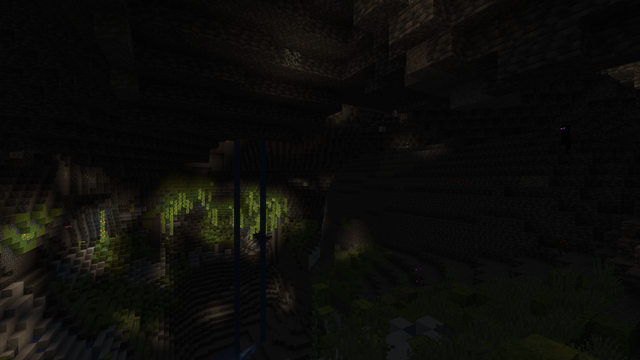araignees: (538, 236, 567, 253)
endermens: (560, 123, 570, 147)
squelettes: (403, 137, 408, 146)
